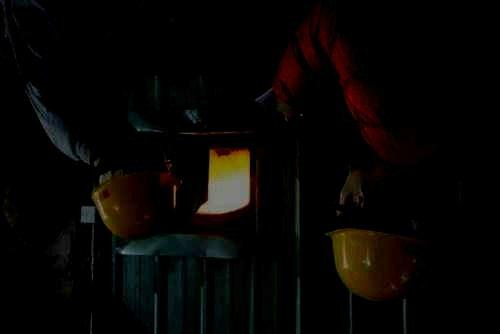helmet: (323, 168, 419, 303), (90, 141, 170, 239)
